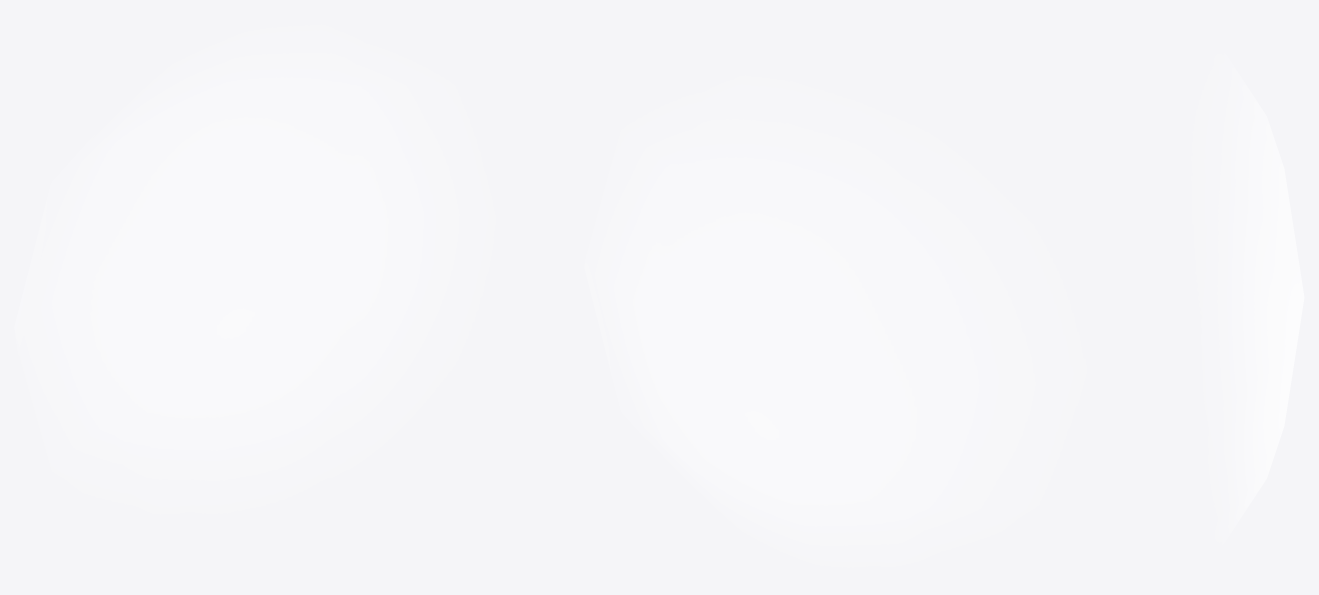
File: HaloSphere.glb
3 views of the same model, side by side, from view 1: azimuth 30°, elevation 25°; view 2: azimuth 150°, elevation 25°; view 3: azimuth 270°, elevation 25° (orthographic). The views are drawn at different scales.
Bounding box in the file's own units: 0.44 × 0.44 × 0.116.
1 material, 1 textured.
